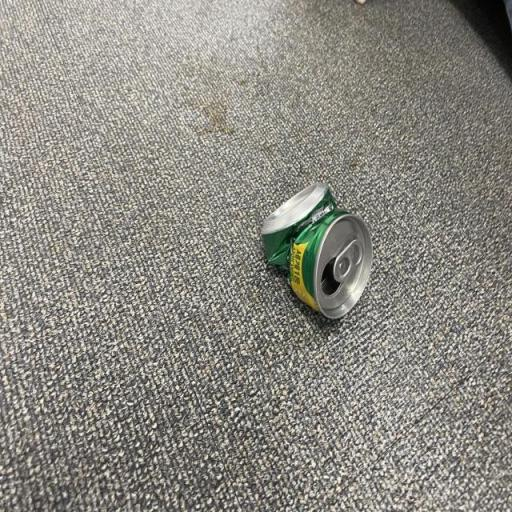metal: (248, 154, 383, 328)
